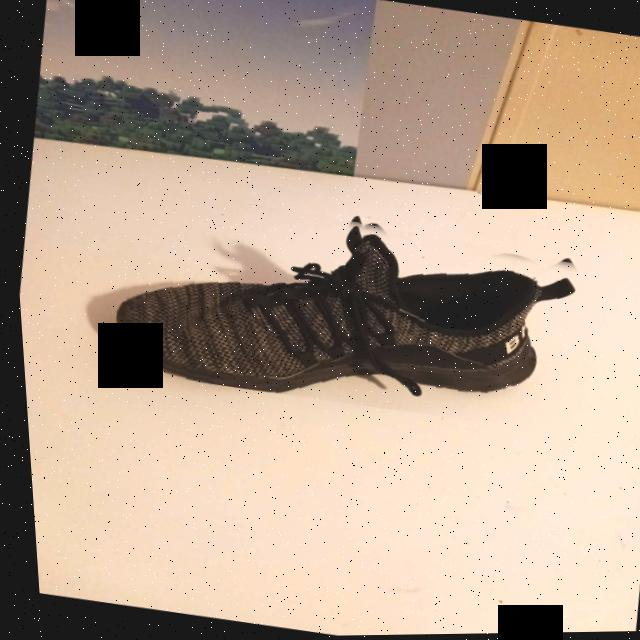shoe: (92, 174, 586, 441)
